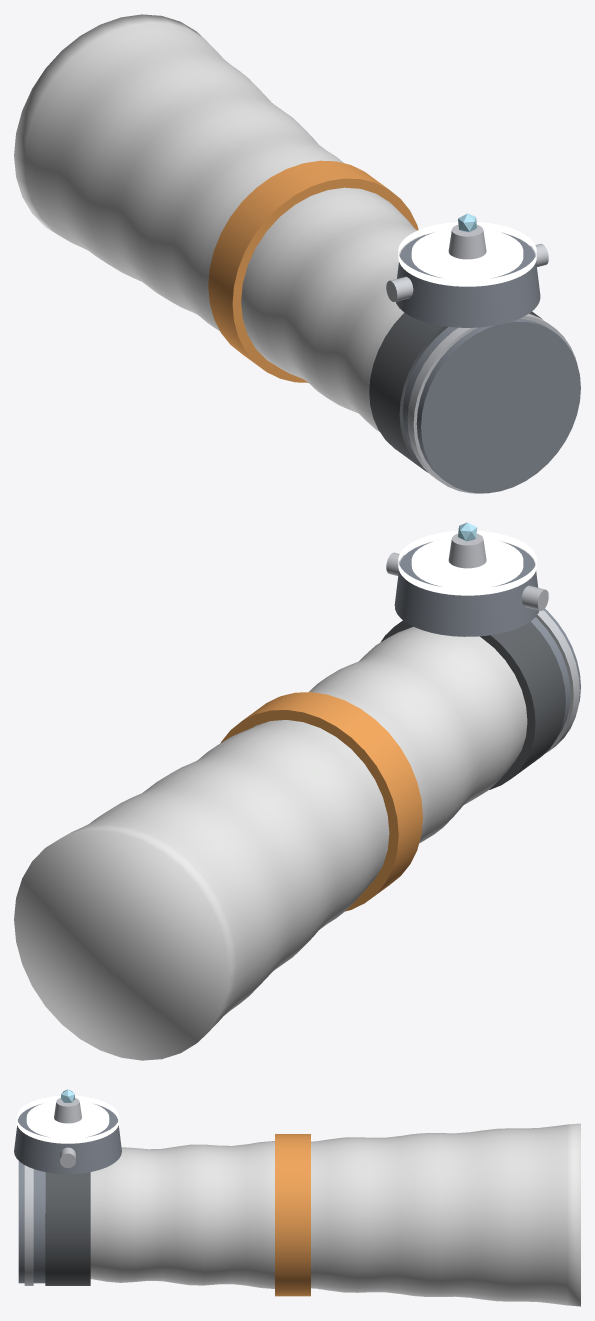
File: wrist_arm.fbx
The picture shows the model from 3 angles, top to bottom: view 1: azimuth 30°, elevation 25°; view 2: azimuth 150°, elevation 25°; view 3: azimuth 270°, elevation 25°; orthographic projection. The views are drawn at different scales.
Parts seen in each view (by area): view 1: wrist_arm; view 2: wrist_arm; view 3: wrist_arm.
Part boxes in pixels (x1,y1,x2,y2): wrist_arm: [14, 14, 580, 493]; wrist_arm: [14, 522, 580, 1060]; wrist_arm: [14, 1089, 580, 1306].
Size of the model in its own units: 0.2036 by 0.2558 by 0.63.
